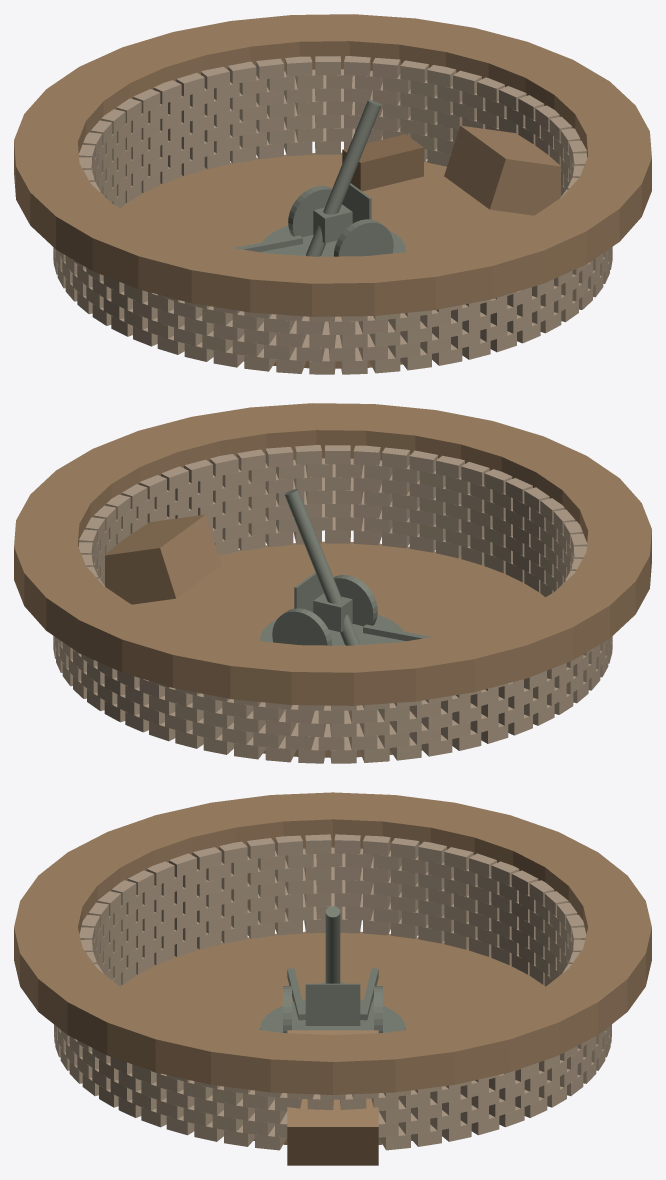
Rendered from Artillery_Pit.glb.
3 renders of one model, top to bottom at view 1: azimuth 30°, elevation 25°; view 2: azimuth 150°, elevation 25°; view 3: azimuth 270°, elevation 25°, orthographic.
Visible parts, largest first — view 1: Artillery_Pit; view 2: Artillery_Pit; view 3: Artillery_Pit.
Part boxes in pixels (box(x1,y1,x2,y2)): Artillery_Pit: box(14, 14, 651, 374); Artillery_Pit: box(14, 403, 651, 763); Artillery_Pit: box(14, 792, 651, 1165).
Bounding box in the file's own units: 7 × 2.33 × 7.
